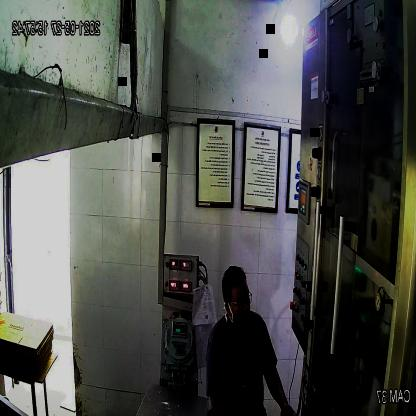goggles: (225, 290, 253, 310)
